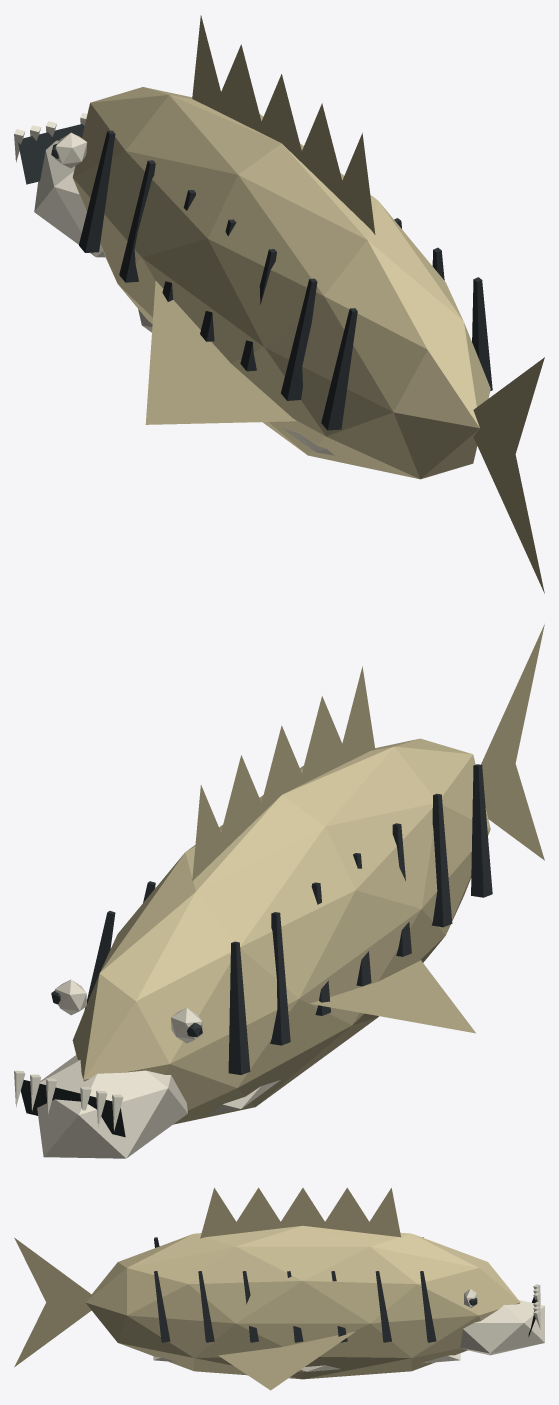
File: Tigerfish.fbx
3 views of the same model, one above another, from view 1: azimuth 30°, elevation 25°; view 2: azimuth 150°, elevation 25°; view 3: azimuth 270°, elevation 25° (orthographic). The views are drawn at different scales.
Visible parts, largest first — view 1: Body, Pectoral1, SpinedDorsal, TailFin, Jaw, TigerStripe1_6, TigerStripe1_0, TigerStripe1_5, MouthOpening, TigerStripe1_1, TigerStripe-1_6, Eye1 (+1 smaller); view 2: Body, Jaw, SpinedDorsal, TailFin, Pectoral1, TigerStripe1_6, TigerStripe1_0, TigerStripe1_5, TigerStripe1_1, MouthOpening, Eye-1, TigerStripe-1_0 (+2 smaller); view 3: Body, SpinedDorsal, TailFin, Jaw, Pectoral-1, TigerStripe-1_0, TigerStripe-1_6, TigerStripe-1_5, TigerStripe-1_1, Belly, TigerStripe-1_4.
Part boxes in pixels (x1,y1,x2,y2): Body: (72, 87, 490, 479); Pectoral1: (145, 281, 296, 424); SpinedDorsal: (192, 15, 375, 234); TailFin: (473, 357, 544, 593); Jaw: (34, 140, 105, 257); TigerStripe1_6: (321, 308, 357, 430); TigerStripe1_0: (79, 130, 115, 252); TigerStripe1_5: (281, 278, 317, 400); MouthOpening: (18, 124, 84, 184); TigerStripe1_1: (119, 160, 155, 282); TigerStripe-1_6: (472, 277, 492, 390); Eye1: (55, 132, 87, 168); Body: (72, 738, 490, 1124); Jaw: (37, 1055, 187, 1158); SpinedDorsal: (192, 666, 375, 881); TailFin: (481, 624, 544, 860); Pectoral1: (310, 960, 475, 1033); TigerStripe1_6: (471, 764, 492, 897); TigerStripe1_0: (228, 941, 250, 1074); TigerStripe1_5: (431, 793, 452, 927); TigerStripe1_1: (270, 912, 290, 1045); MouthOpening: (21, 1080, 125, 1137); Eye-1: (55, 979, 86, 1015); TigerStripe-1_0: (84, 911, 115, 1009); Body: (85, 1225, 520, 1379); SpinedDorsal: (200, 1187, 400, 1238); TailFin: (14, 1237, 92, 1367); Jaw: (460, 1300, 544, 1355); Pectoral-1: (218, 1331, 355, 1390); TigerStripe-1_0: (420, 1271, 436, 1342); TigerStripe-1_6: (154, 1271, 170, 1342); TigerStripe-1_5: (198, 1271, 214, 1342); TigerStripe-1_1: (375, 1271, 391, 1342); Belly: (153, 1353, 460, 1371); TigerStripe-1_4: (242, 1271, 258, 1342).
Size of the model in its own units: 0.52 by 0.525 by 1.32.
